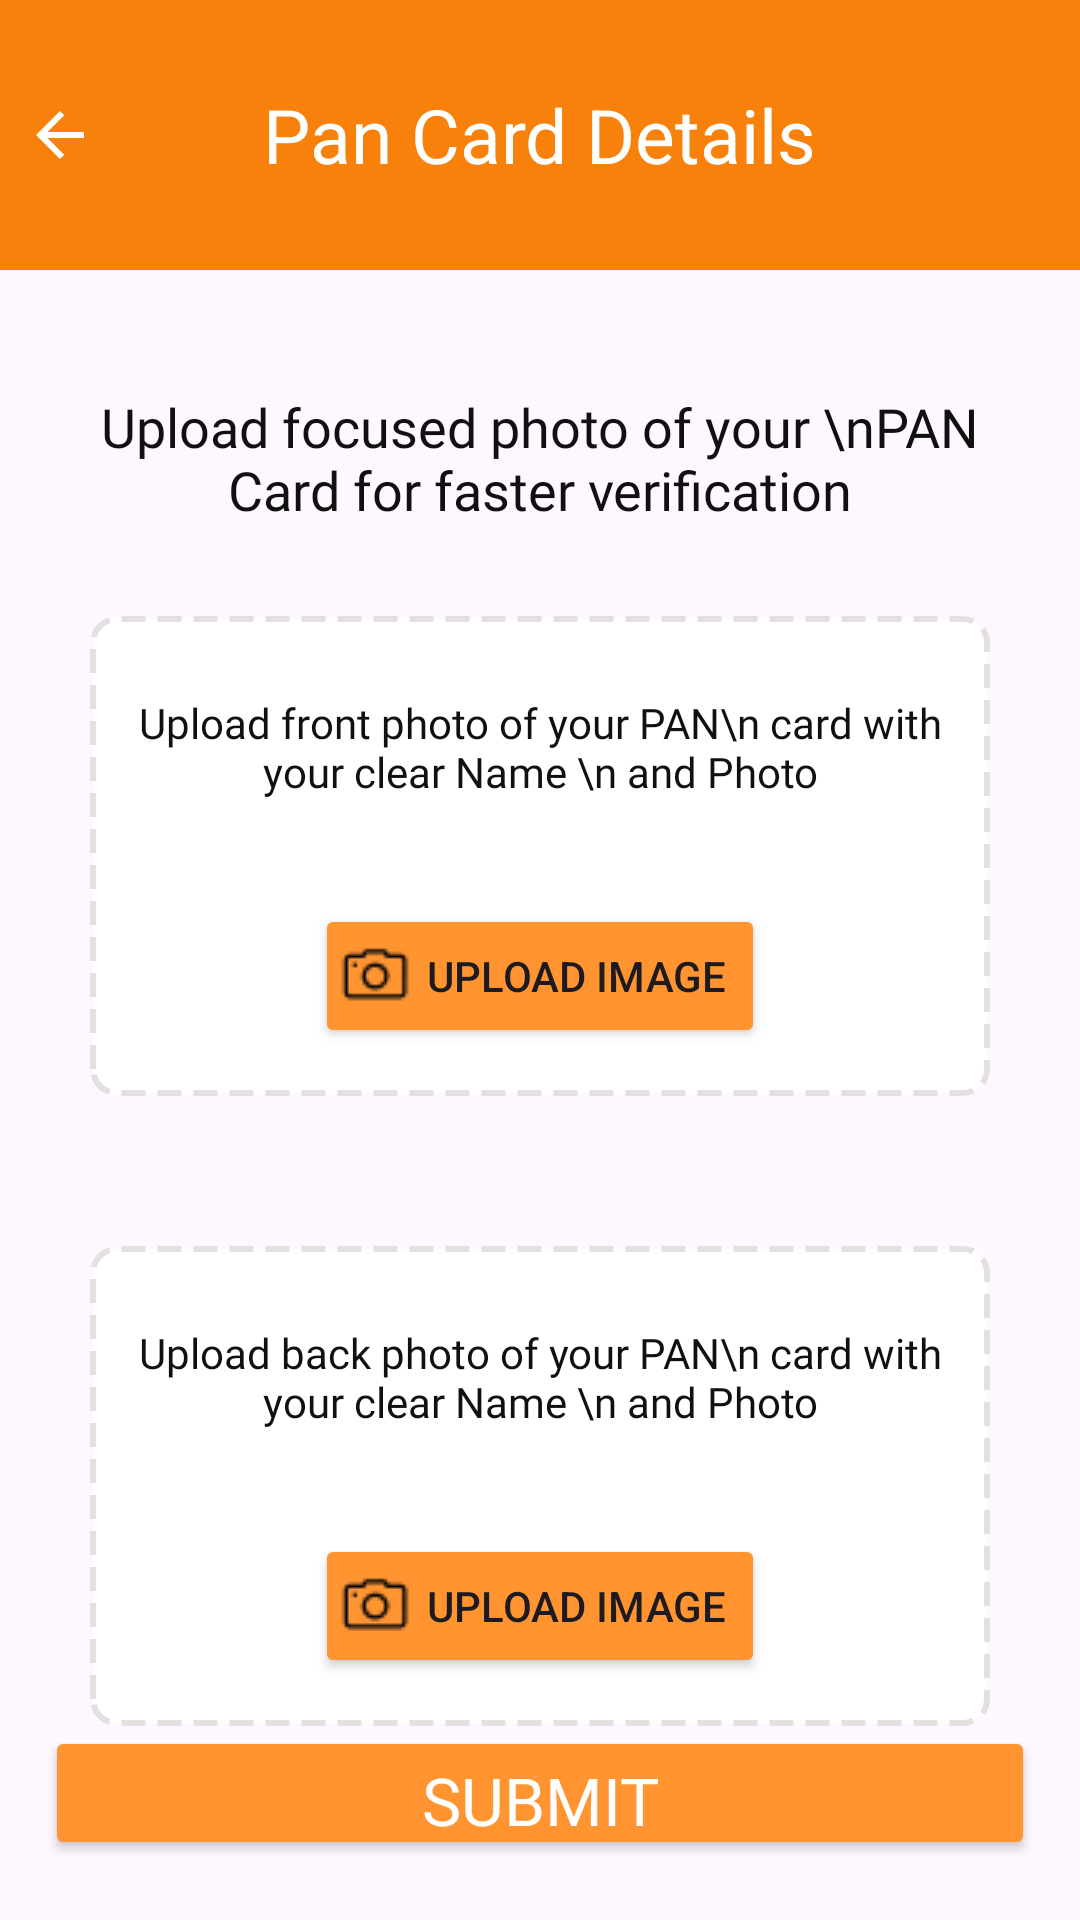

Locate icon controls on the screen. Image size 1080px x 1920px, boxes as Rect(x1, y1, x2, y2).
Back: Rect(36, 111, 84, 159)
